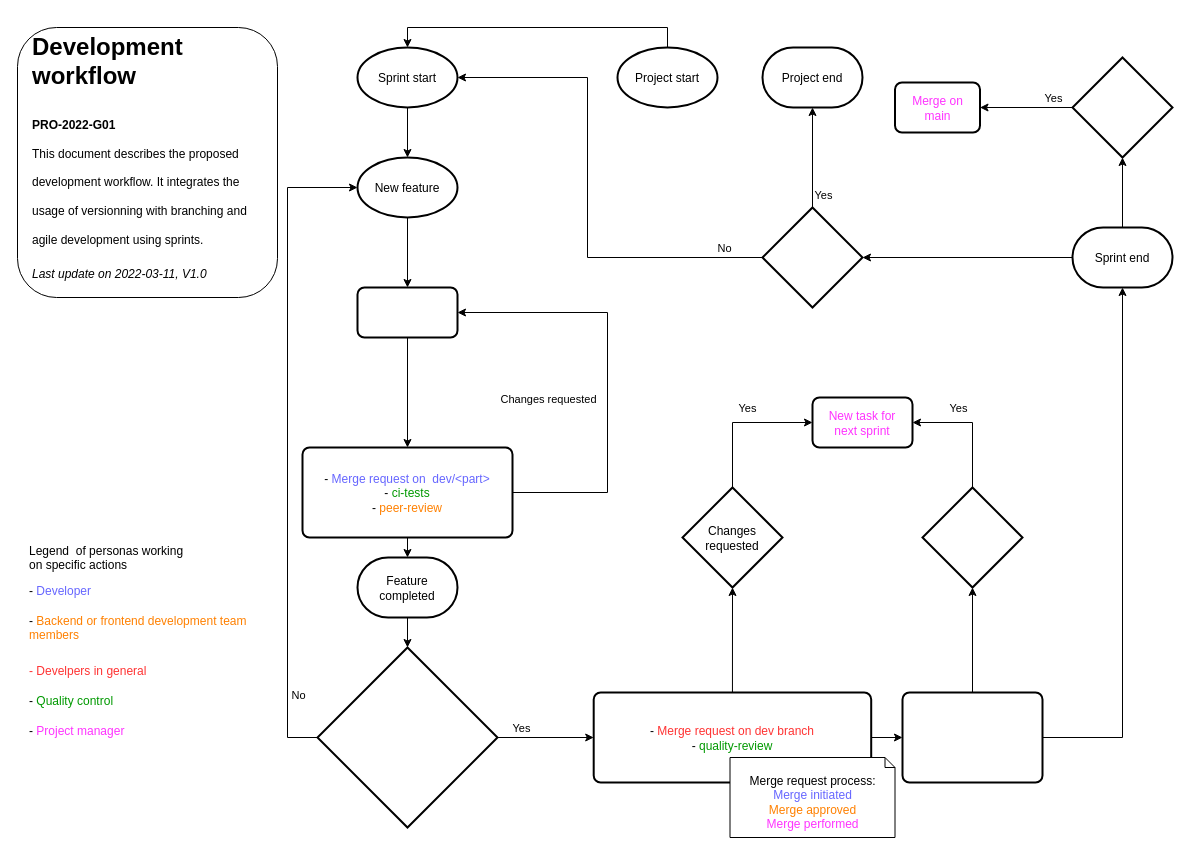
Some shapes in this 1191 by 855 pixel diagram are drawn without their labels. The centre of each missing label's shape, as x and y in pixels:
"Development on feature branch" belongs at (407,312).
"Functional tests" belongs at (972,737).
"Last sprint?" belongs at (812,257).
"Release ?" belongs at (1122,107).
"Sprint finished ?" belongs at (407,737).
"Test" belongs at (972,537).
